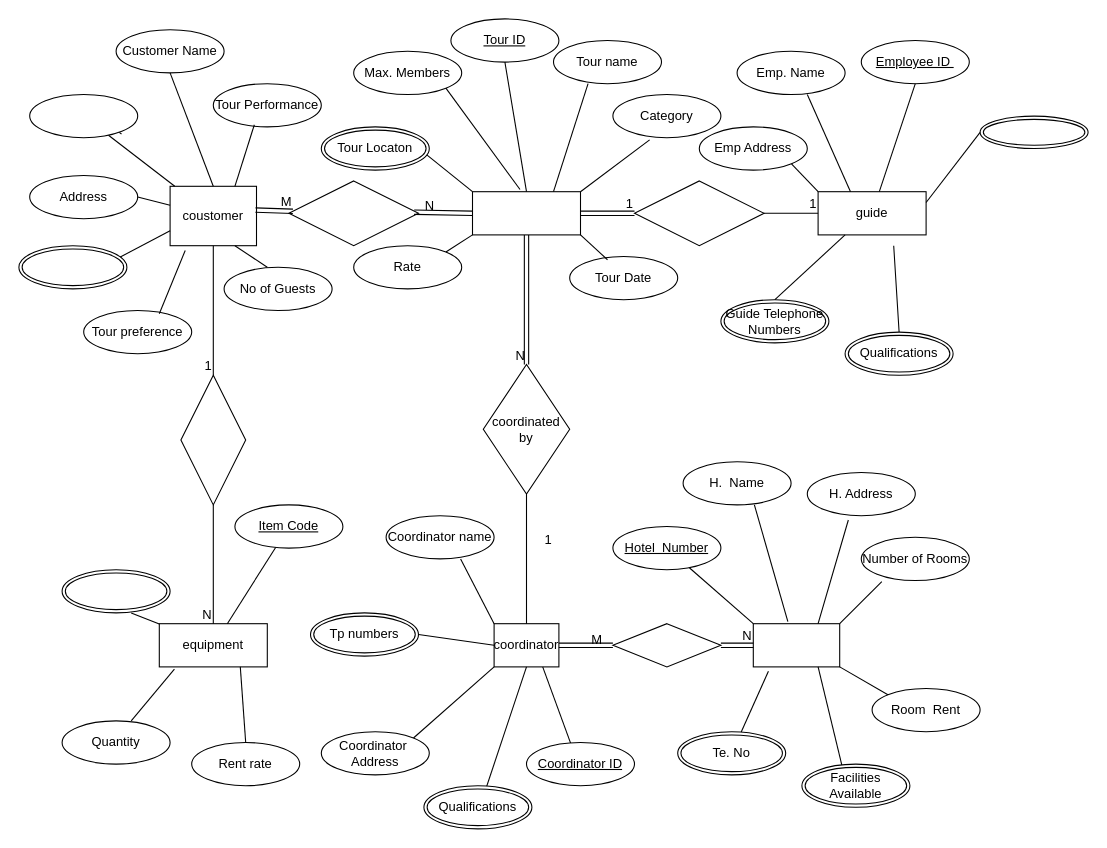
This 1107x848 diagram has some shape labels left out. Each missing label, with the box of its shape:
books: (288, 180, 418, 246)
C. Telephone numbers: (18, 245, 127, 289)
Description: (61, 569, 170, 613)
has: (633, 180, 764, 246)
hotel: (752, 623, 840, 667)
rent: (180, 374, 246, 505)
Reservation ID: (29, 93, 138, 138)
resevers: (612, 623, 721, 667)
Special Area: (979, 115, 1088, 148)
tour: (471, 191, 580, 235)
